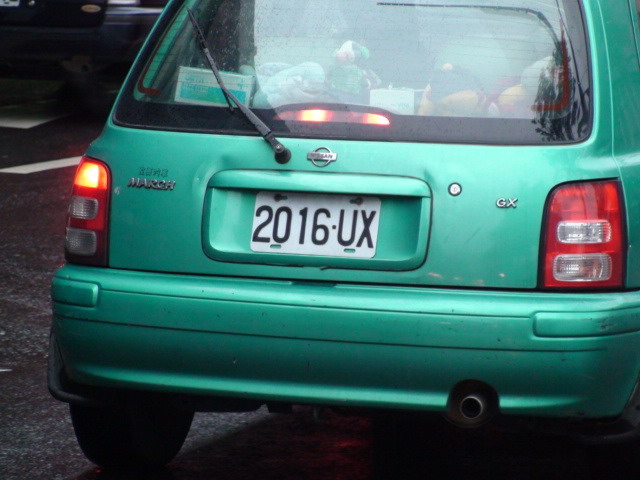plate: (248, 189, 381, 260)
